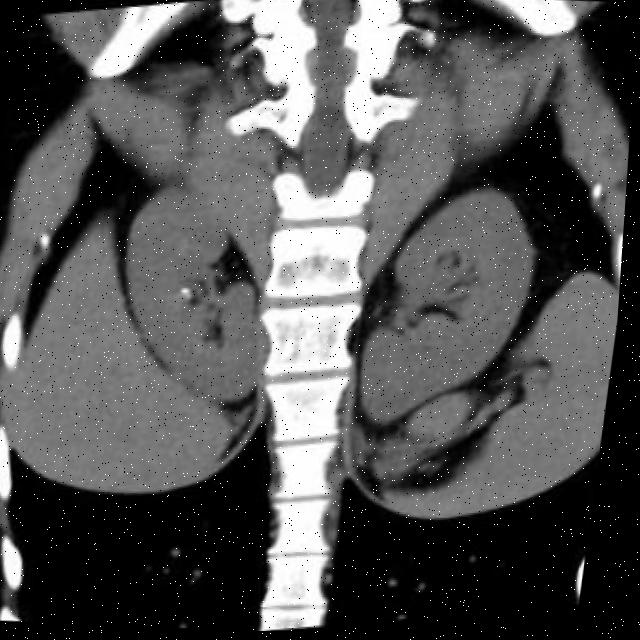Tas_Var: (179, 287, 197, 298), (186, 292, 196, 303)
